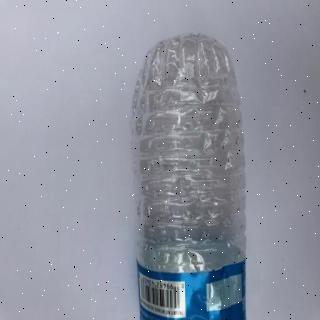Plastic-bottle: (131, 30, 249, 320)
